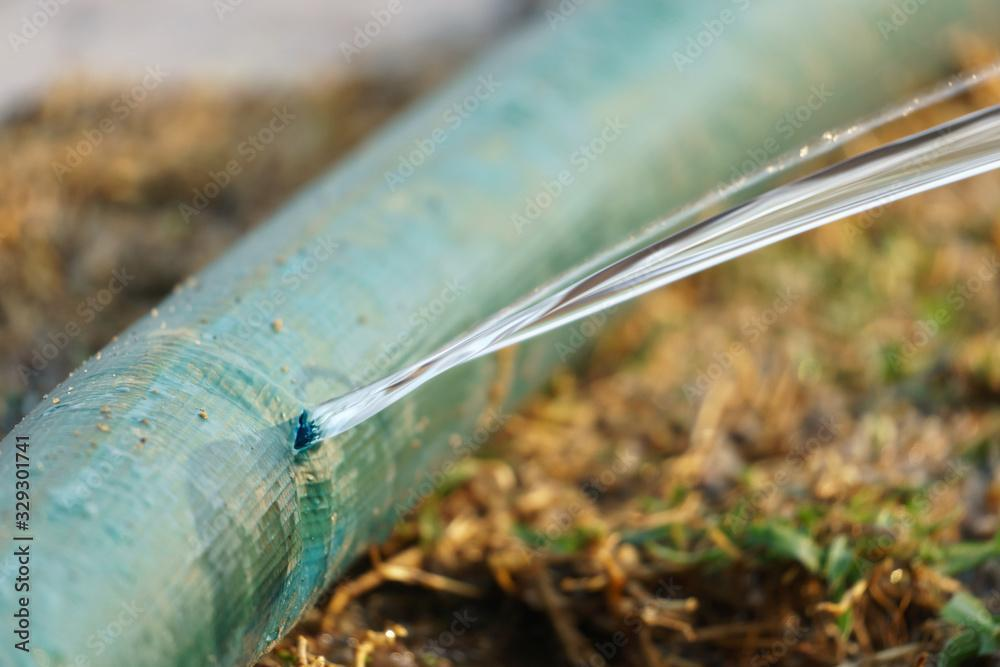pipe burst: (282, 61, 1000, 466)
